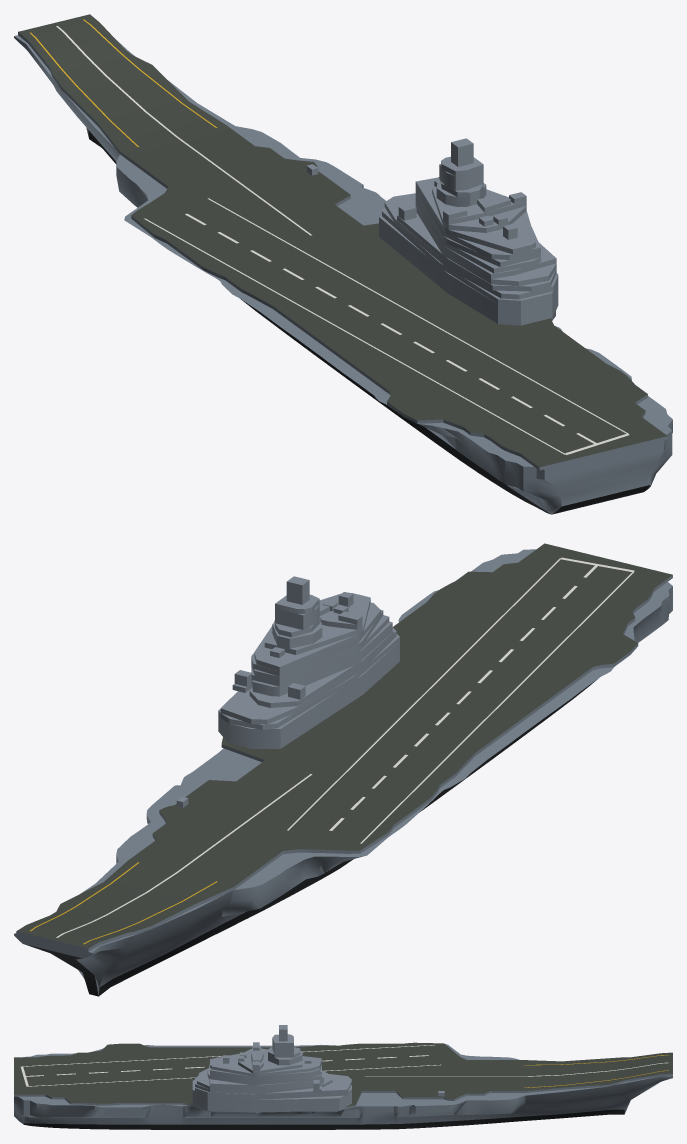
Rendered from traeger_kusnezow.glb.
3 renders of one model, top to bottom at view 1: azimuth 30°, elevation 25°; view 2: azimuth 150°, elevation 25°; view 3: azimuth 270°, elevation 25°, orthographic. The views are drawn at different scales.
Visible parts, largest first — view 1: traeger_kusnezow; view 2: traeger_kusnezow; view 3: traeger_kusnezow.
Part boxes in pixels (x1,y1,x2,y2): traeger_kusnezow: (14, 14, 672, 514); traeger_kusnezow: (14, 543, 672, 996); traeger_kusnezow: (14, 1025, 672, 1129).
Size of the model in its own units: 77.56 by 56.38 by 306.
